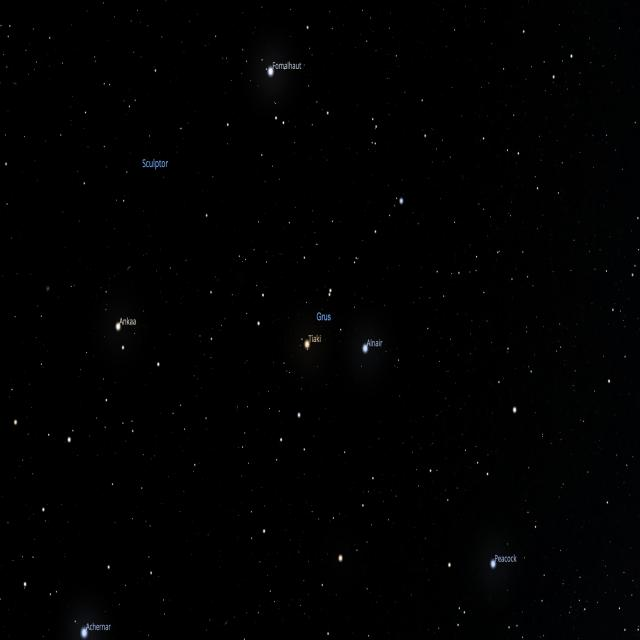Grus: (254, 196, 407, 444)
